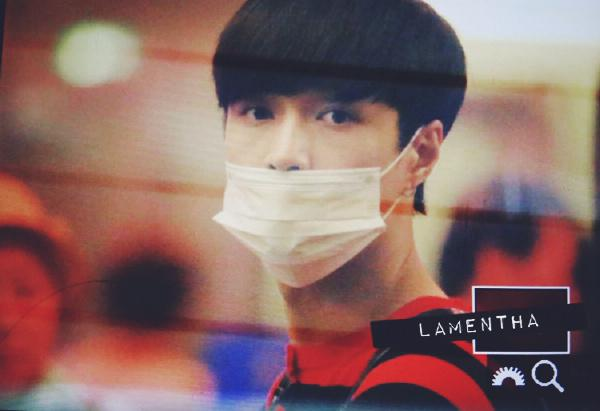WRONG: (218, 53, 387, 270)
